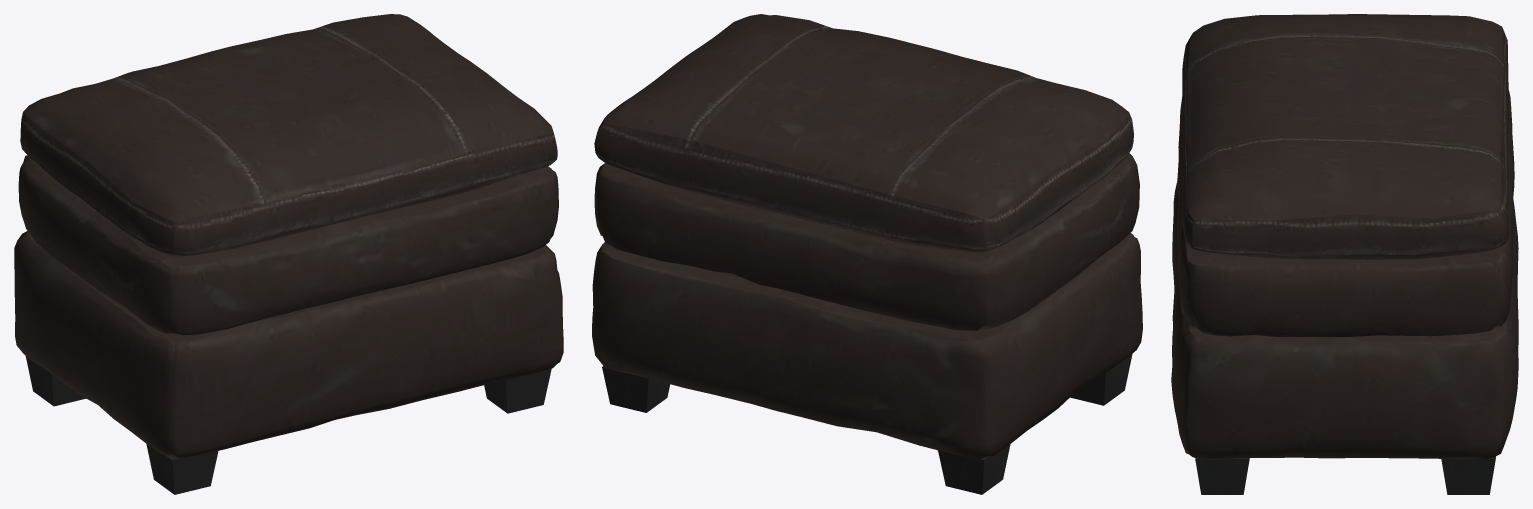
The model's file is Ottoman_01.glb.
The picture shows the model from 3 angles, left to right: view 1: azimuth 30°, elevation 25°; view 2: azimuth 150°, elevation 25°; view 3: azimuth 270°, elevation 25°; orthographic projection.
Visible parts, largest first — view 1: Ottoman_01; view 2: Ottoman_01; view 3: Ottoman_01.
Part boxes in pixels (<box>): Ottoman_01: <box>14,14,563,494</box>; Ottoman_01: <box>592,14,1142,494</box>; Ottoman_01: <box>1171,14,1518,494</box>.
Bounding box in the file's own units: 0.8846 × 0.6243 × 0.6211.
Materials: 1 (1 with a texture image).
